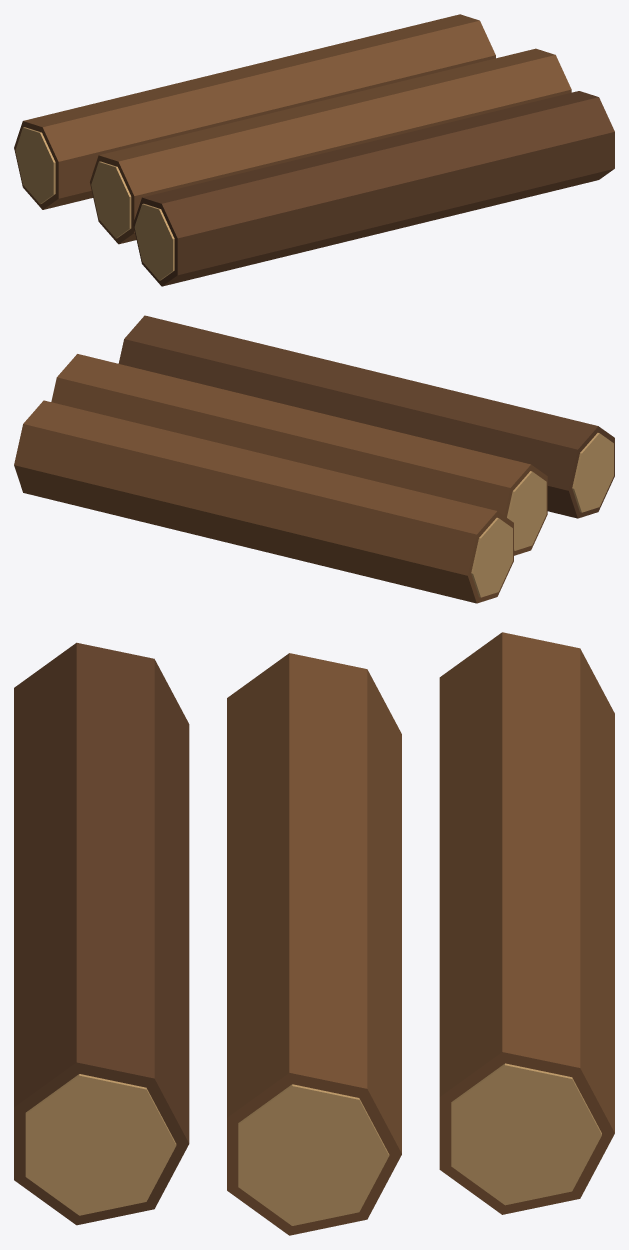
File: pile_logs_1.glb
3 views of the same model, one above another, from view 1: azimuth 30°, elevation 25°; view 2: azimuth 150°, elevation 25°; view 3: azimuth 270°, elevation 25° (orthographic). The views are drawn at different scales.
Parts seen in each view (by area): view 1: pile_logs_1; view 2: pile_logs_1; view 3: pile_logs_1.
Boxes of the visible parts, x1,y1,x2,y2 form: pile_logs_1: [14, 14, 614, 286]; pile_logs_1: [14, 315, 614, 603]; pile_logs_1: [14, 632, 614, 1235].
Size of the model in its own units: 1.48 by 0.2535 by 0.8471.
